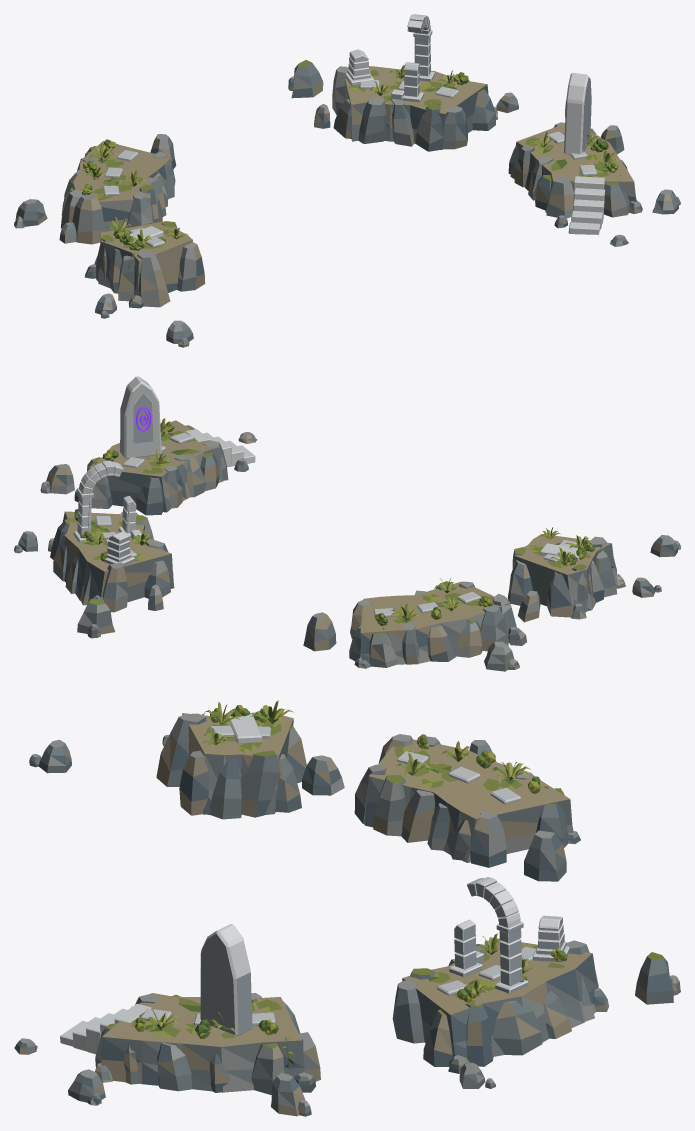
File: timewell_depth_web_draco.glb
3 views of the same model, one above another, from view 1: azimuth 30°, elevation 25°; view 2: azimuth 150°, elevation 25°; view 3: azimuth 270°, elevation 25° (orthographic). The views are drawn at different scales.
Parts seen in each view (by area): view 1: Static_Whirlpool; view 2: Static_Whirlpool; view 3: Static_Whirlpool.
Part boxes in pixels (x1,y1,x2,y2): Static_Whirlpool: [14, 14, 680, 347]; Static_Whirlpool: [14, 376, 680, 671]; Static_Whirlpool: [14, 700, 680, 1116].
Size of the model in its own units: 22.19 by 4.1 by 16.65.
